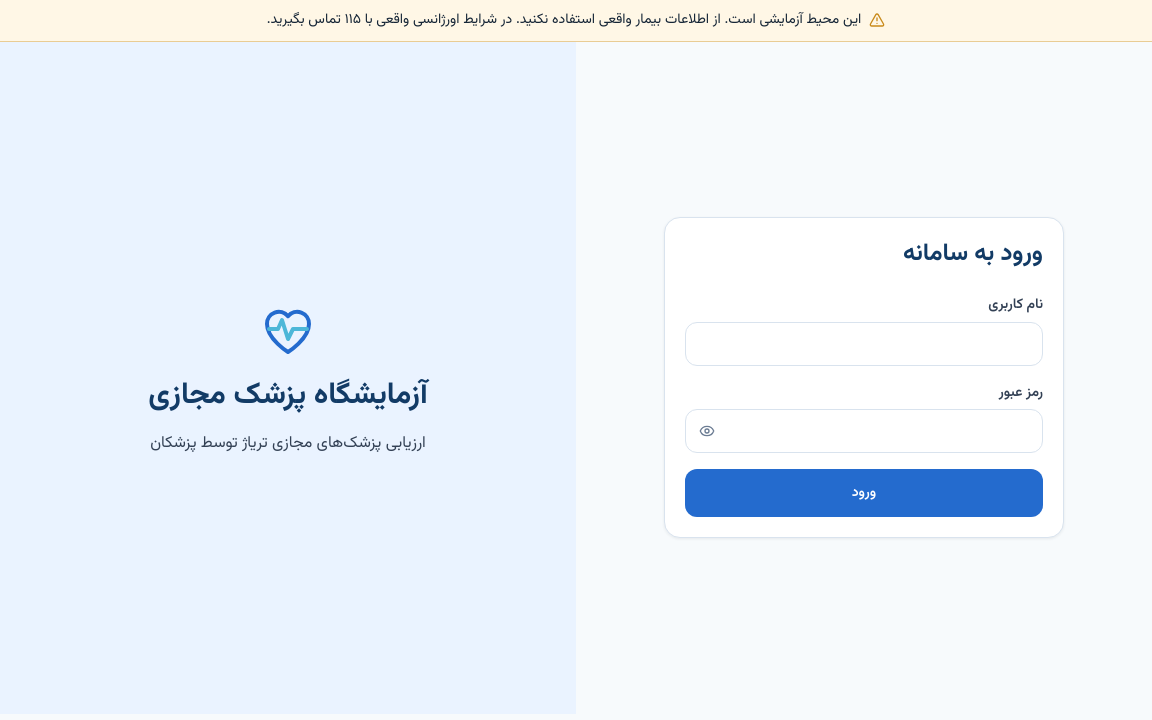
login page (DESIGN_SYSTEM §6.1) › shows the error and focuses the username field after a failed login
Check: the heading "ورود به سامانه" is shown, box [903, 234, 1043, 272]
Type "doctor" into the field labelled "نام کاربری". click: (864, 344)
box: [685, 322, 1043, 366]
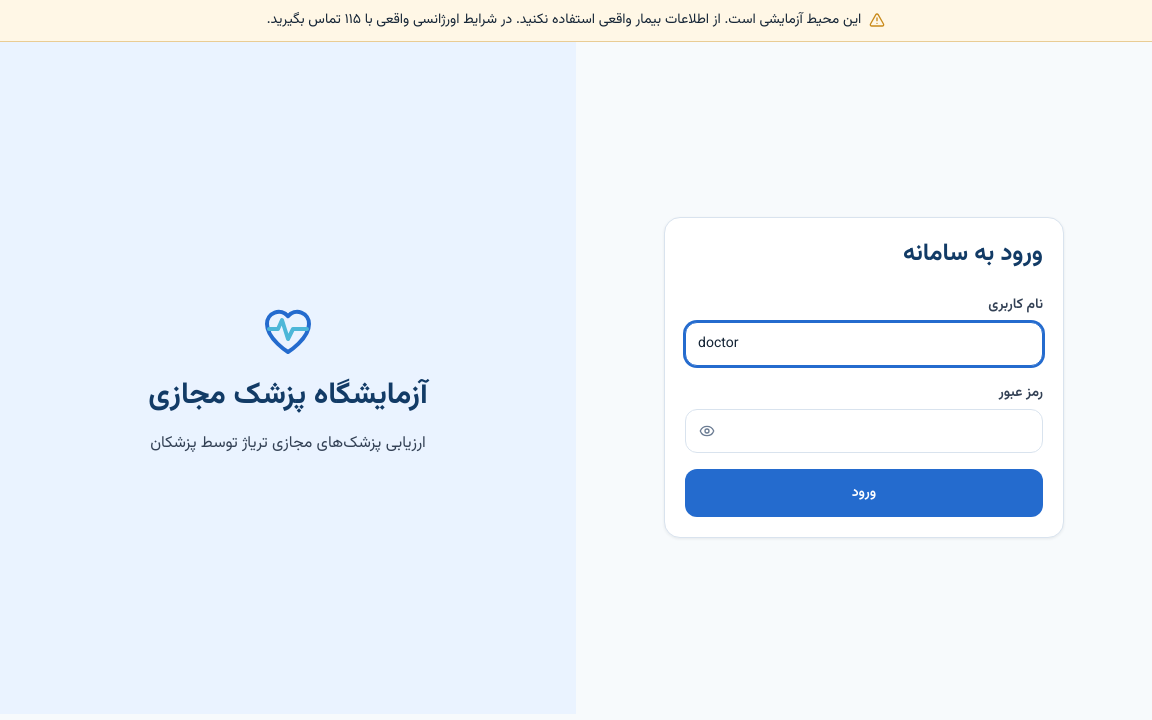
Type "wrong" into the password field labelled "رمز عبور". click: (864, 432)
box: [685, 410, 1043, 454]
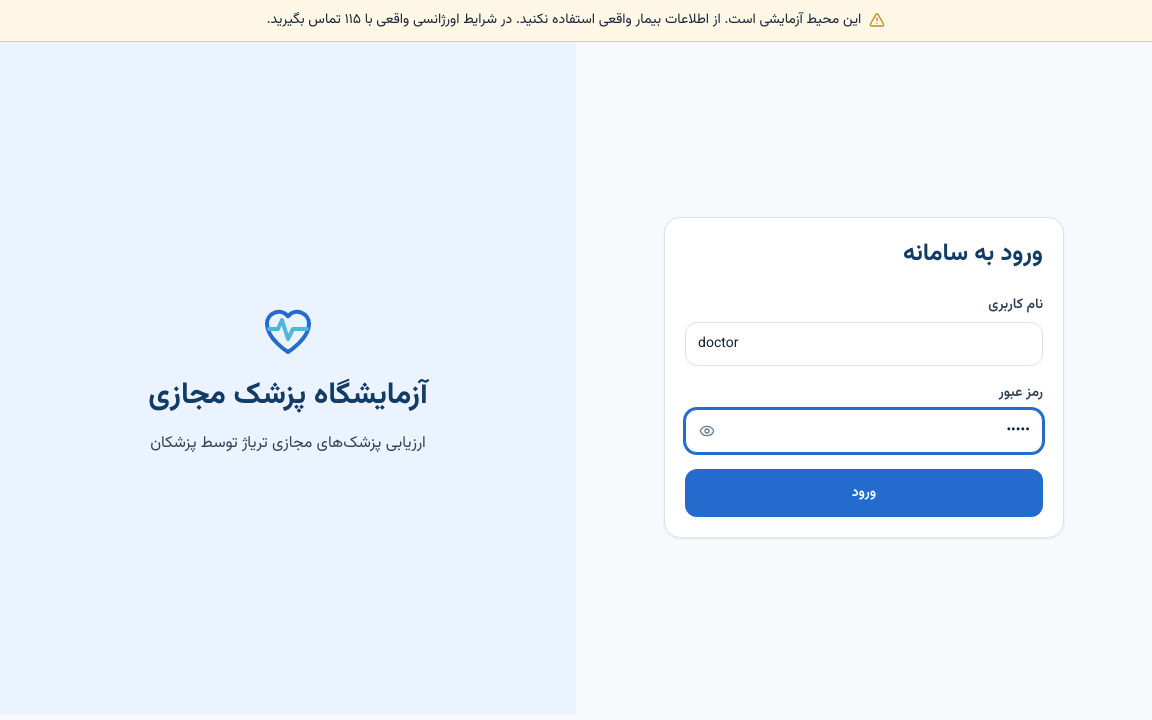
Click the button "ورود". click: (864, 494)
box: [685, 470, 1043, 518]
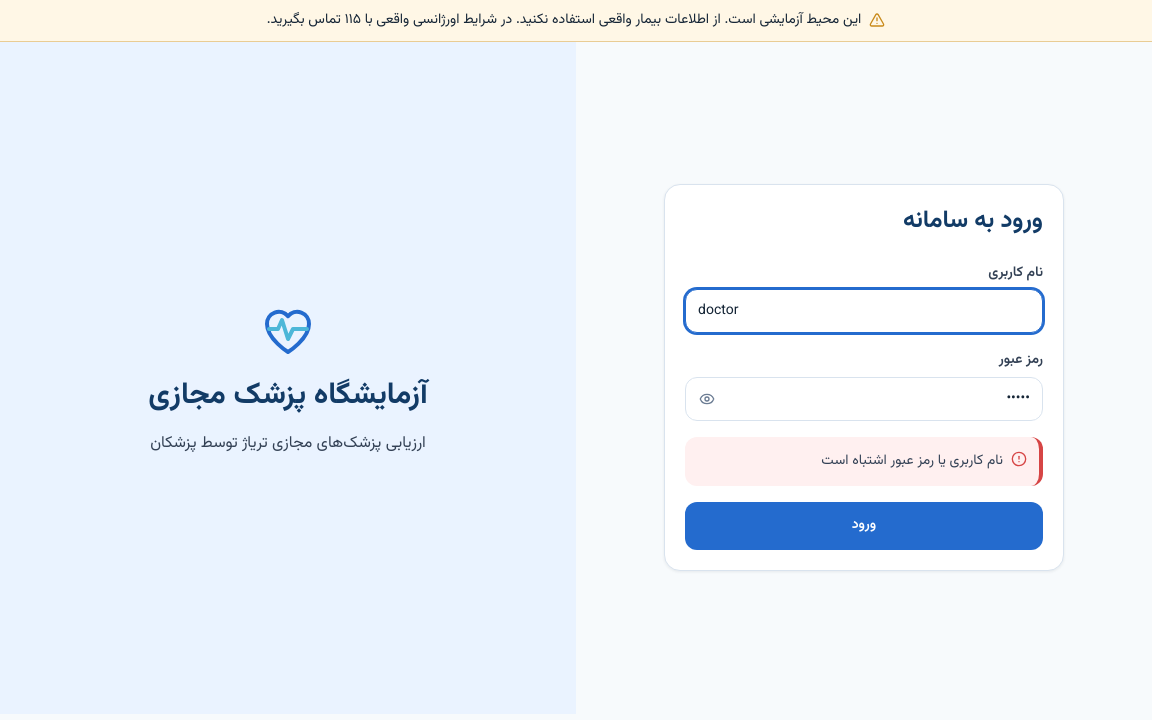
Check: the message reads "نام کاربری یا رمز عبور اشتباه است", box [821, 450, 1003, 472]
